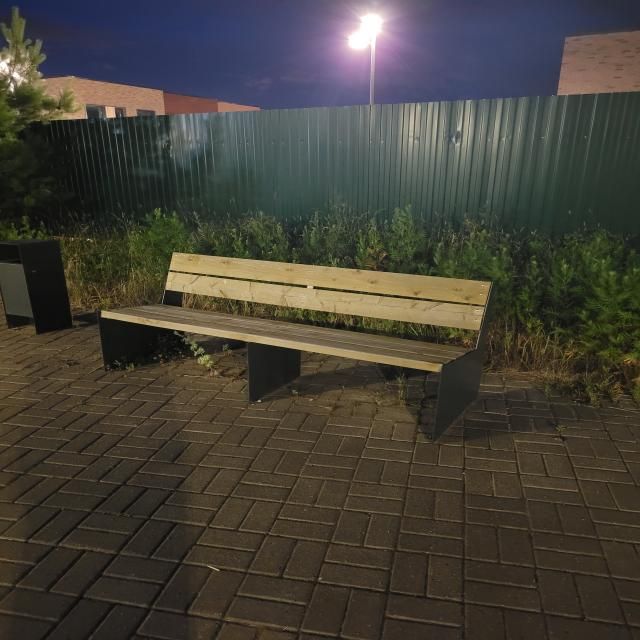Bench: (97, 251, 495, 443)
